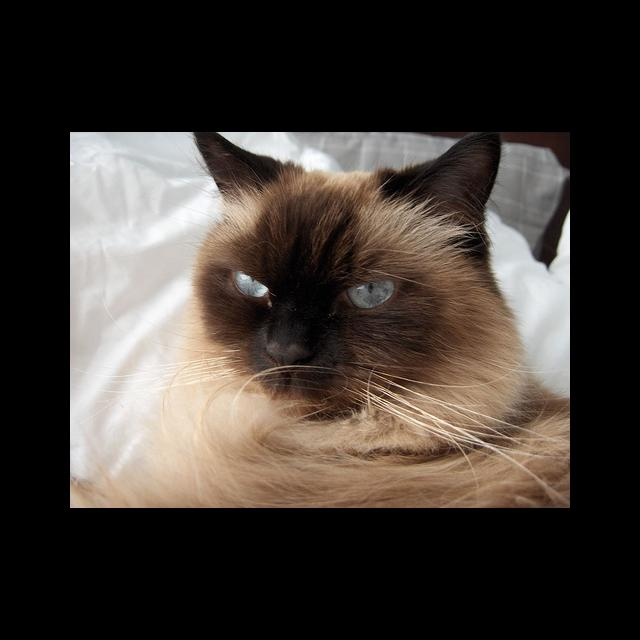animals: (188, 132, 492, 364)
